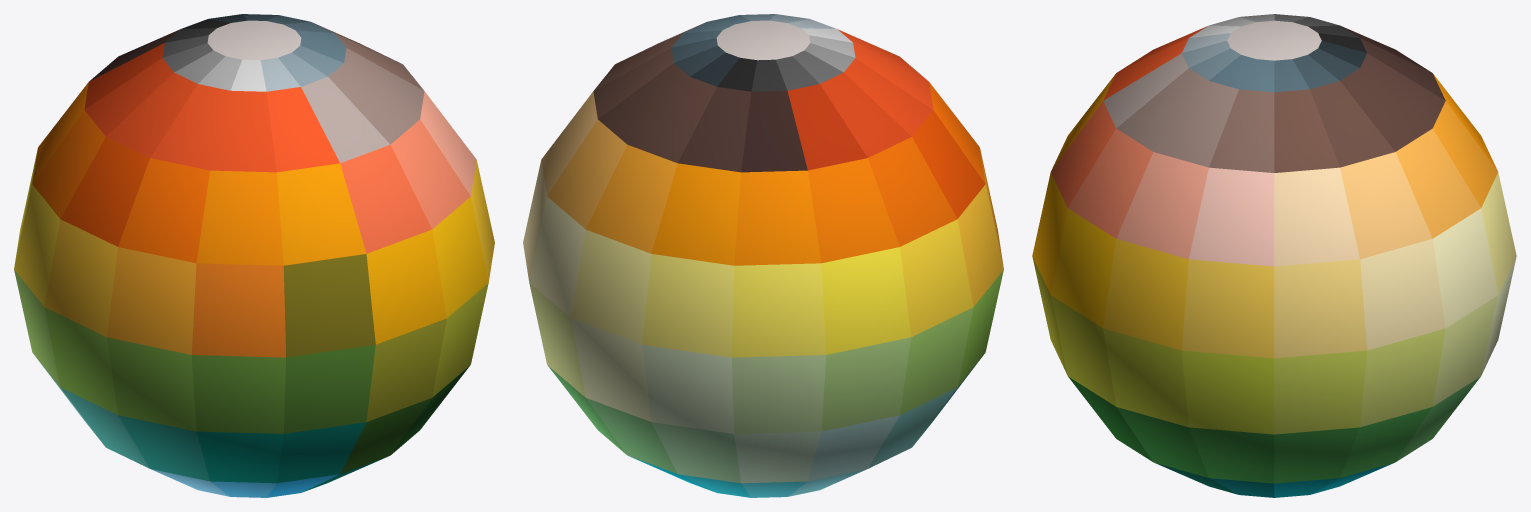
File: Ball_5.fbx
The picture shows the model from 3 angles, left to right: view 1: azimuth 30°, elevation 25°; view 2: azimuth 150°, elevation 25°; view 3: azimuth 270°, elevation 25°; orthographic projection.
Parts seen in each view (by area): view 1: Ball_5; view 2: Ball_5; view 3: Ball_5.
Part boxes in pixels (x1=…): Ball_5: x1=14, y1=14, x2=494, y2=497; Ball_5: x1=523, y1=14, x2=1003, y2=497; Ball_5: x1=1032, y1=14, x2=1516, y2=497.
Size of the model in its own units: 23.86 by 23.4 by 23.86.
1 material, 1 textured.
